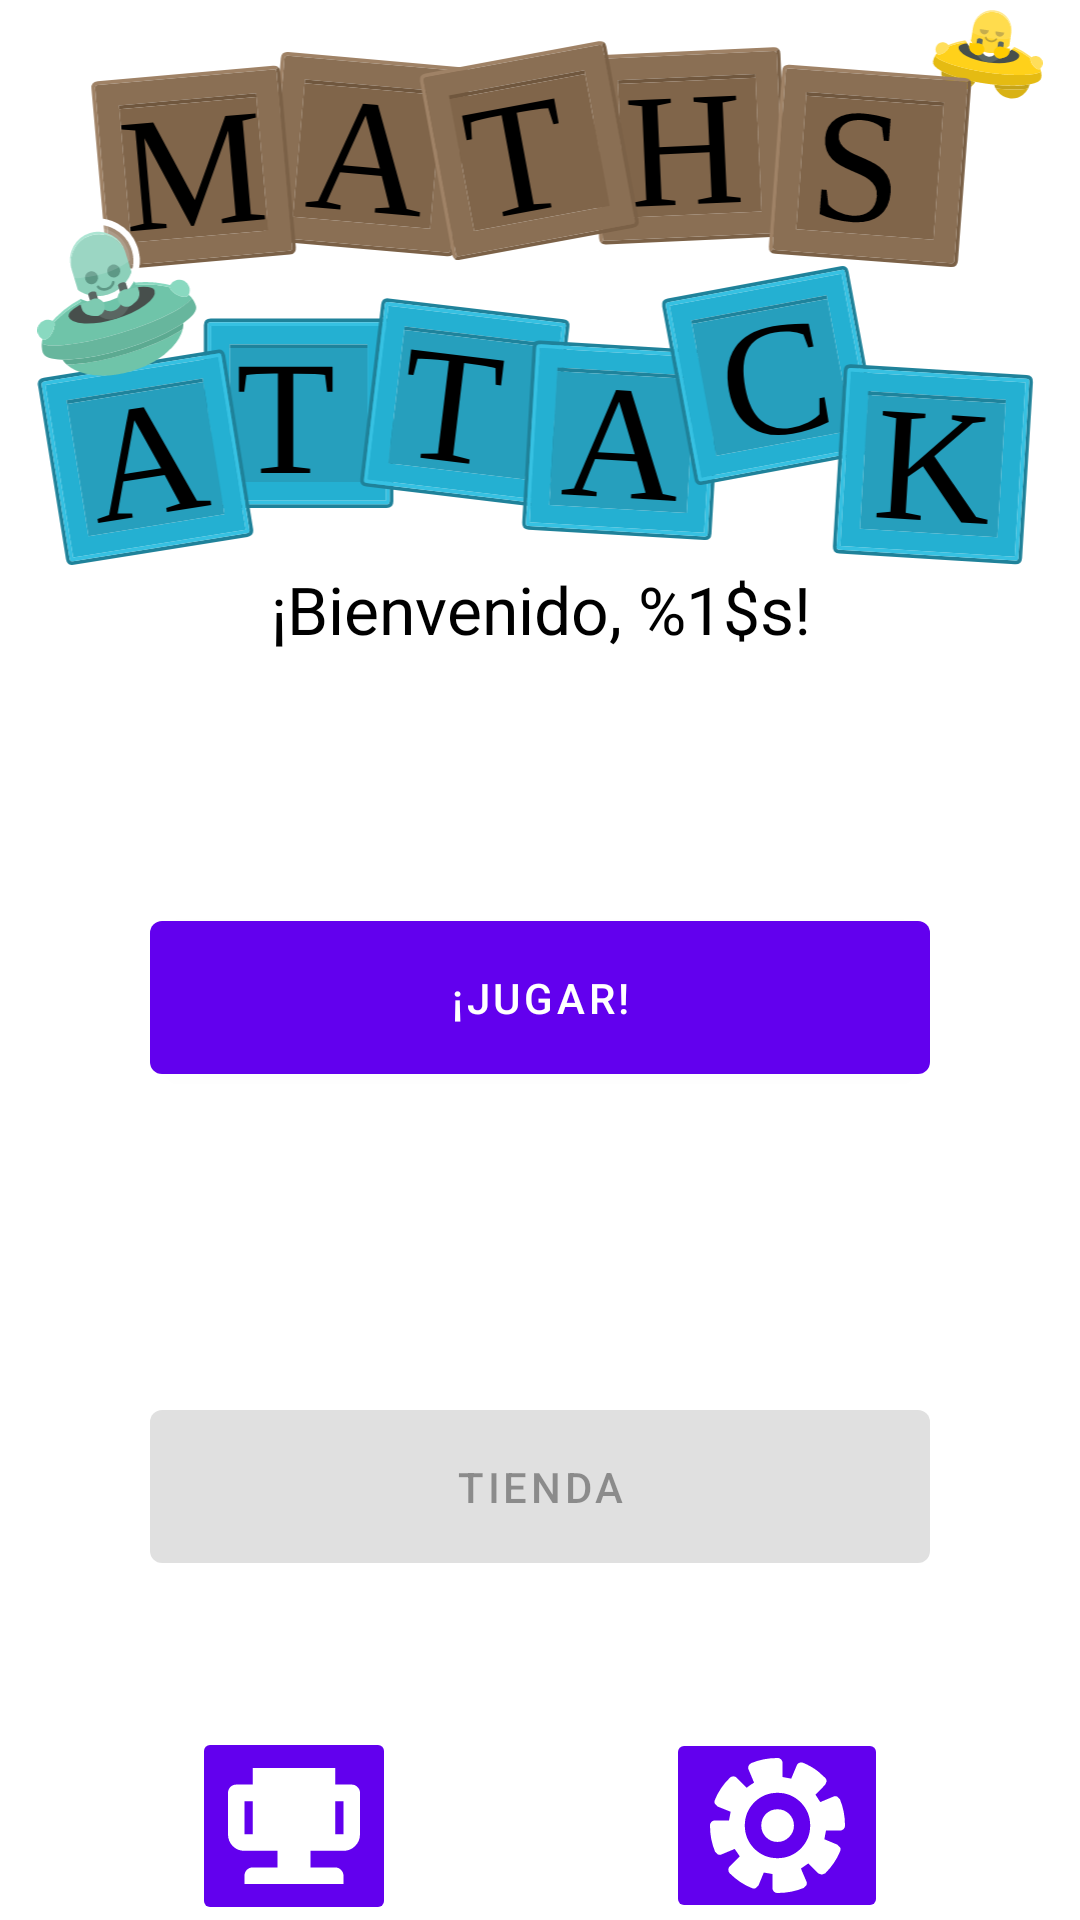

Named icons in this screenshot (1080*1920) and their centers, [x,y]:
settings: [777,1825]
trophy: [294,1826]
